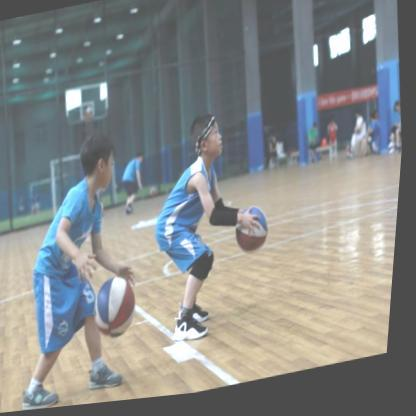basketball: (94, 274, 145, 345)
